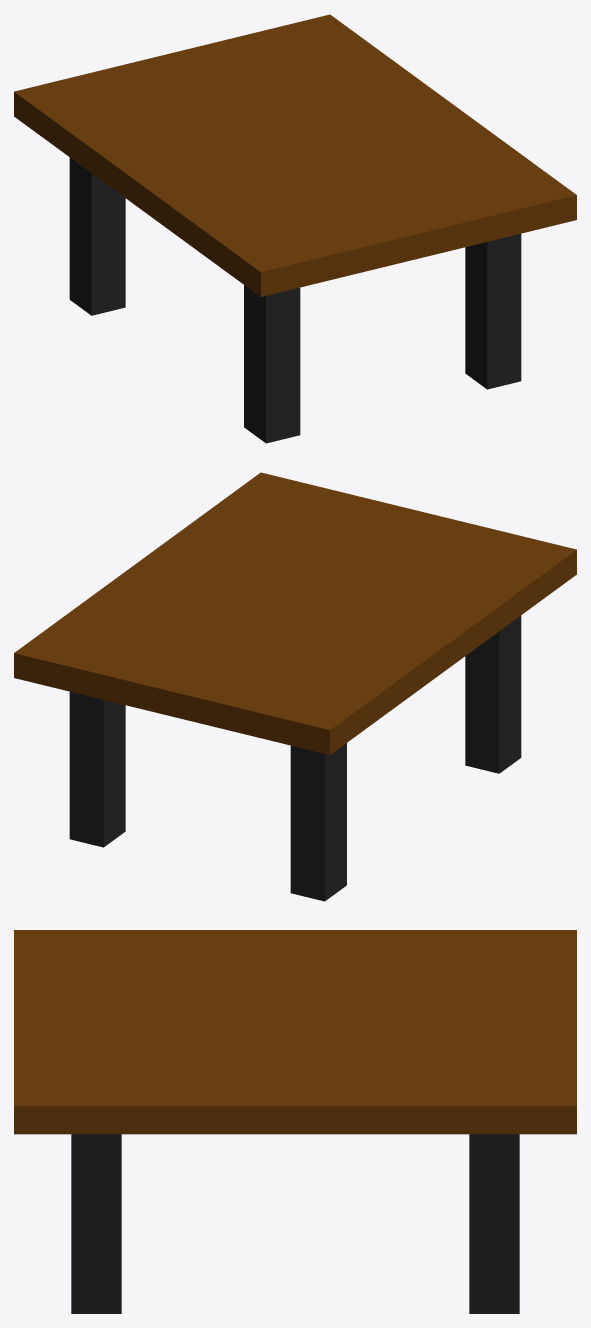
File: Table.fbx
The picture shows the model from 3 angles, top to bottom: view 1: azimuth 30°, elevation 25°; view 2: azimuth 150°, elevation 25°; view 3: azimuth 270°, elevation 25°; orthographic projection. The views are drawn at different scales.
Visible parts, largest first — view 1: Table; view 2: Table; view 3: Table.
Boxes of the visible parts, box(x1,y1,x2,y2) form: Table: box(14, 14, 576, 443); Table: box(14, 472, 576, 901); Table: box(14, 930, 576, 1313).
Bounding box in the file's own units: 156 × 92.95 × 211.
